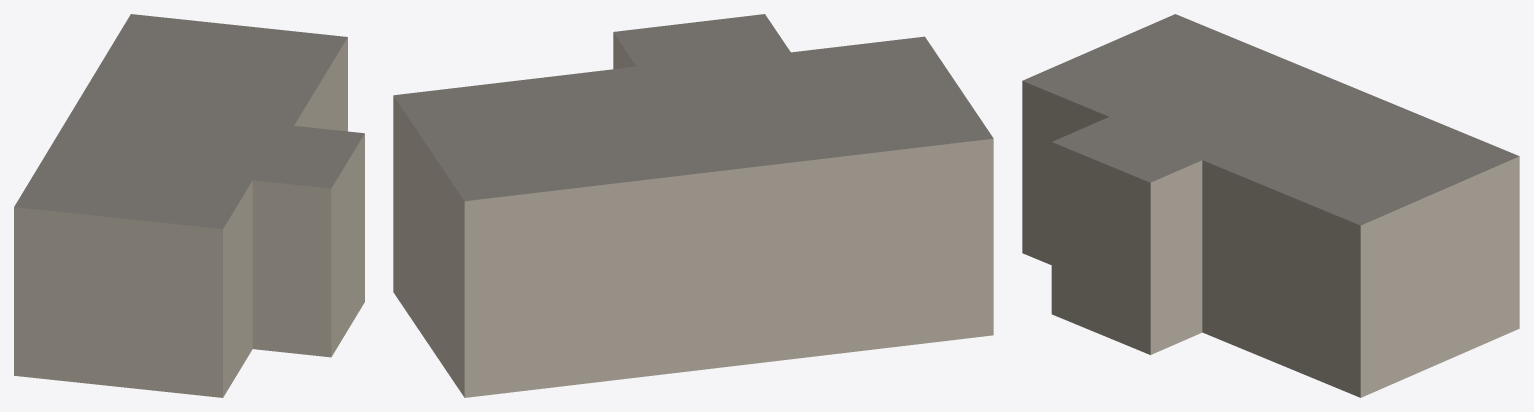
The picture shows the model from 3 angles, left to right: view 1: azimuth 30°, elevation 25°; view 2: azimuth 150°, elevation 25°; view 3: azimuth 270°, elevation 25°; orthographic projection. The views are drawn at different scales.
Parts seen in each view (by area): view 1: HP-w441877192; view 2: HP-w441877192; view 3: HP-w441877192.
Boxes of the visible parts, x1,y1,x2,y2 form: HP-w441877192: (14, 14, 364, 397); HP-w441877192: (393, 14, 993, 397); HP-w441877192: (1022, 14, 1519, 397).
Bounding box in the file's own units: 47.39 × 18 × 47.08.
